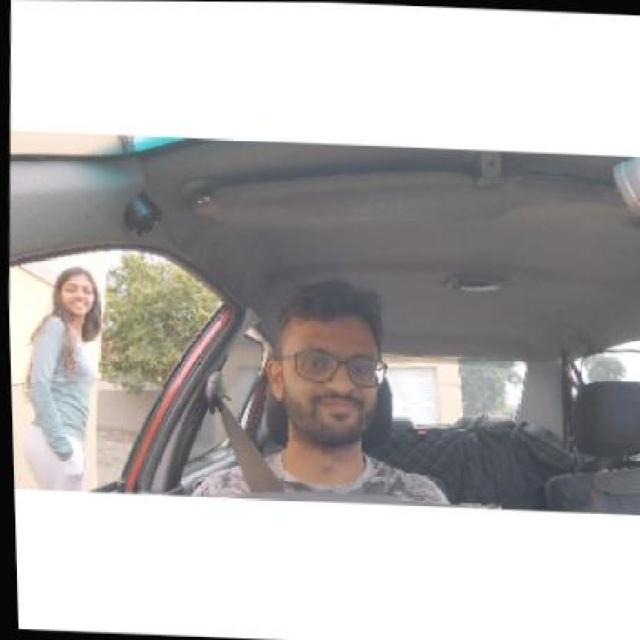person: (259, 280, 395, 448)
